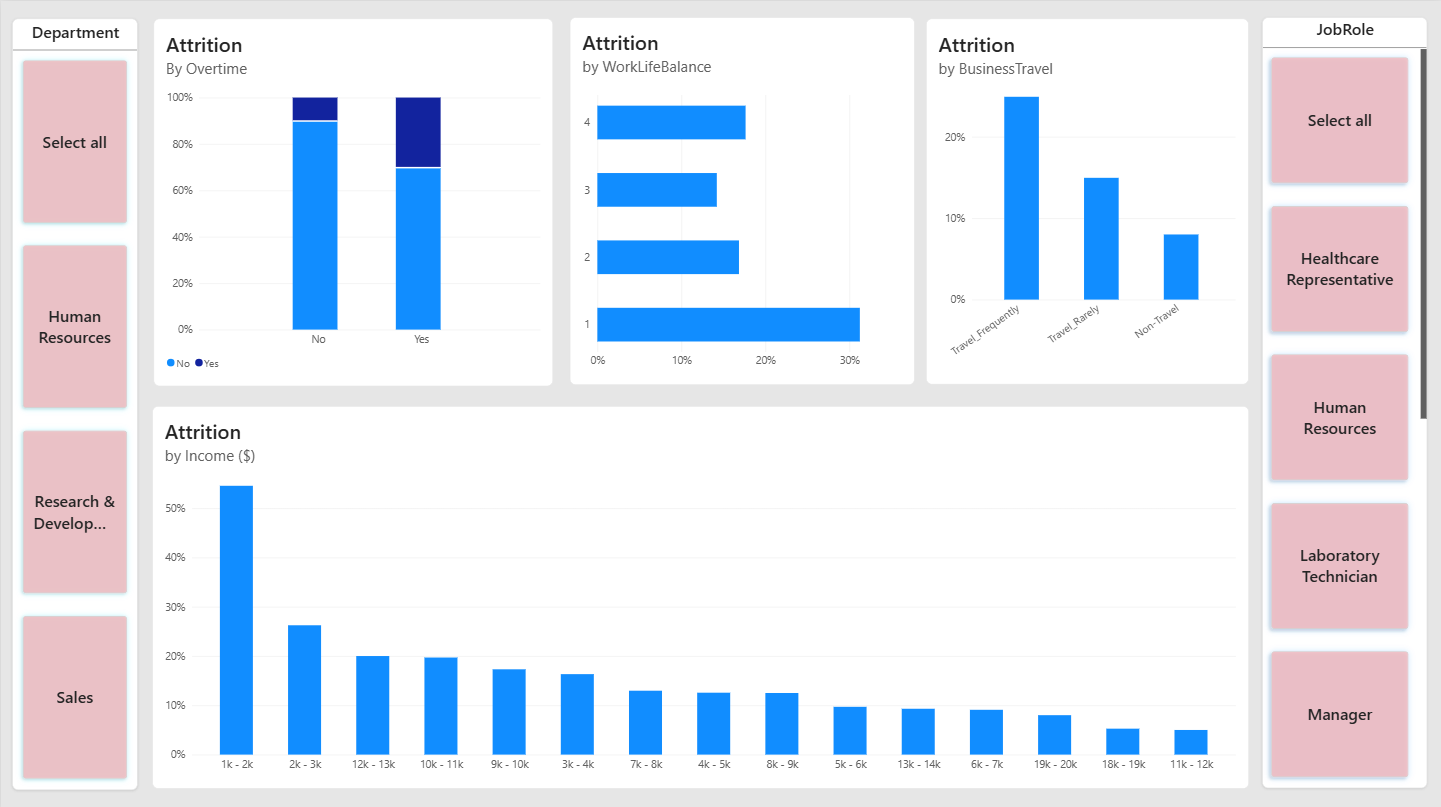

The page's visual inventory and layout, read from the dashboard file:
{"tool":"powerbi","page":{"name":"Attrition Drivers ","canvas":[1920,1080],"ordinal":1},"visuals":[{"type":"barChart","fields":{"Category":["Survey.WorkLifeBalance"],"Y":["_Meaures.Attrition Rate"]},"box":[758,22,460,490],"z":0},{"type":"clusteredColumnChart","fields":{"Category":["JobDetails.BusinessTravel"],"Y":["_Meaures.Attrition Rate"]},"box":[1234,24,430,488],"z":1000},{"type":"hundredPercentStackedColumnChart","fields":{"Category":["JobDetails.OverTime"],"Series":["Attrition.Attrition"],"Y":["_Meaures.Total Employees"]},"box":[202.9,22.9,532.9,490],"z":2000},{"type":"clusteredColumnChart","fields":{"Category":["JobDetails.Income Bin"],"Y":["_Meaures.Attrition Rate"]},"box":[202,540,1462,510],"z":4000},{"type":"advancedSlicerVisual","fields":{"Values":["JobDetails.Department"]},"box":[14.3,22.9,167.1,1028.6],"z":5000},{"type":"advancedSlicerVisual","fields":{"Values":["JobDetails.JobRole"]},"box":[1682,22,220,1028],"z":6000}]}

Visuals, with their boxes in screenshot pixels (x1, y1, x2, y2), scaled from the page's 1920x1080 canvas onto the 1441x807 screenshot:
barChart - Survey.WorkLifeBalance x _Meaures.Attrition Rate: l=569, t=16, r=914, b=383
clusteredColumnChart - JobDetails.BusinessTravel x _Meaures.Attrition Rate: l=926, t=18, r=1249, b=383
hundredPercentStackedColumnChart - JobDetails.OverTime x Attrition.Attrition: l=152, t=17, r=552, b=383
clusteredColumnChart - JobDetails.Income Bin x _Meaures.Attrition Rate: l=152, t=404, r=1249, b=785
advancedSlicerVisual - JobDetails.Department: l=11, t=17, r=136, b=786
advancedSlicerVisual - JobDetails.JobRole: l=1262, t=16, r=1427, b=785
